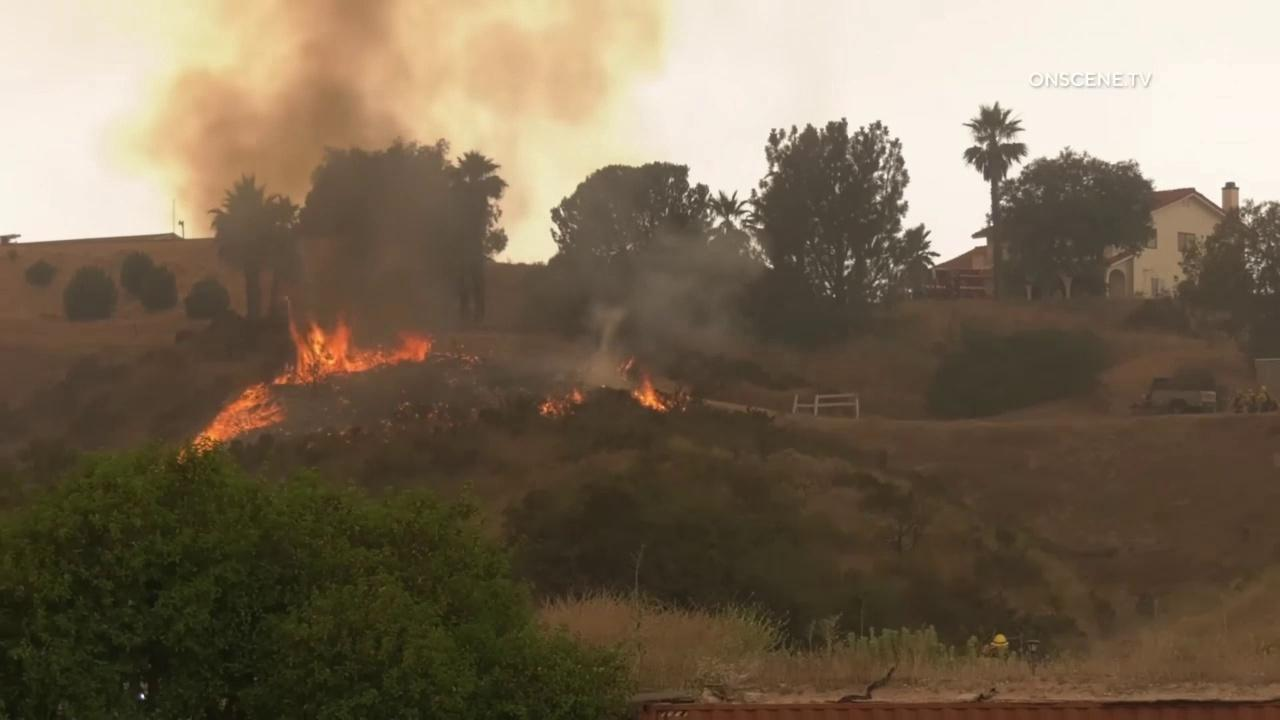fire: (174, 299, 433, 465), (618, 353, 672, 414), (538, 384, 584, 420)
smoke: (123, 0, 776, 448)
